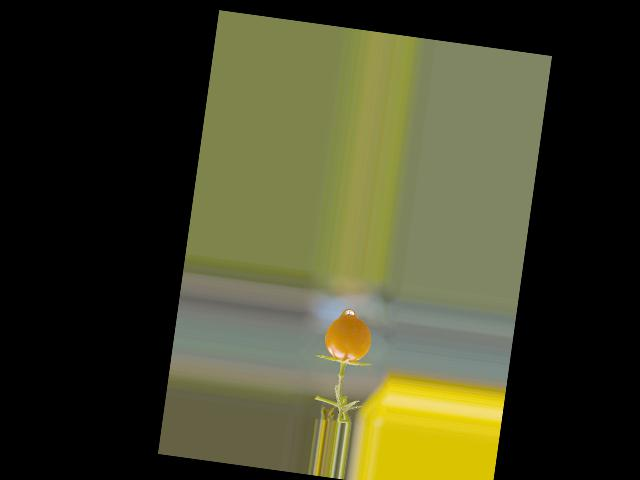tomato: (321, 313, 373, 364)
